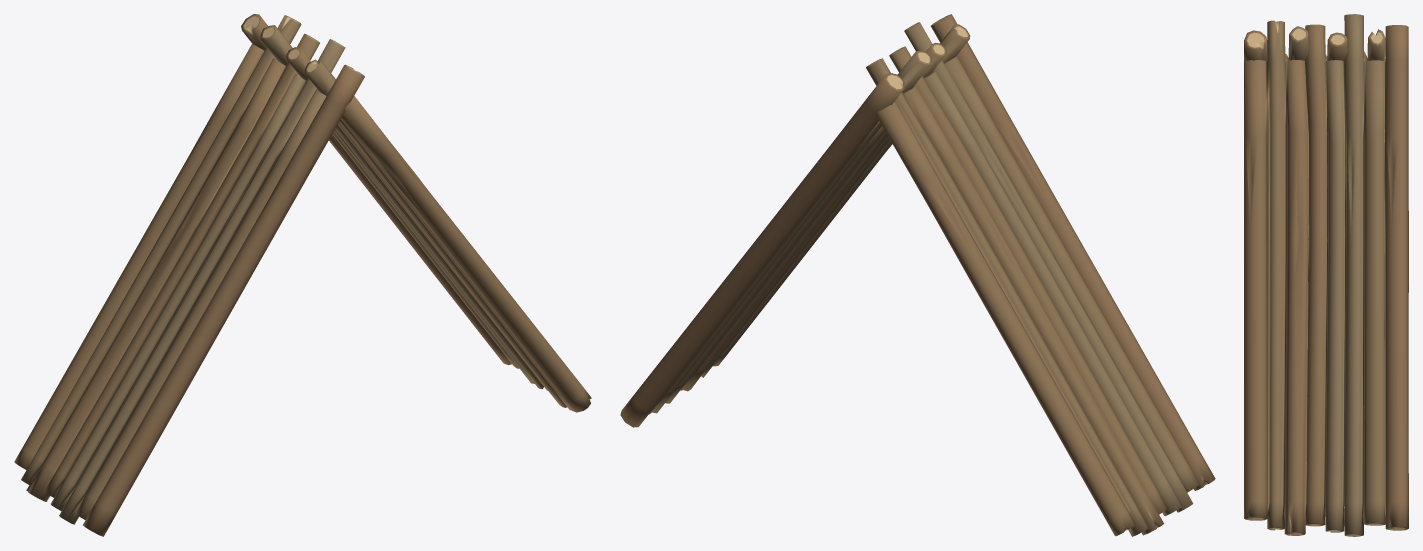
File: rpgpp_ag_roof_01b_6x5x3.fbx
3 views of the same model, side by side, from view 1: azimuth 30°, elevation 25°; view 2: azimuth 150°, elevation 25°; view 3: azimuth 270°, elevation 25° (orthographic). The views are drawn at different scales.
Visible parts, largest first — view 1: rpgpp_ag_roof_01b_6x5x3; view 2: rpgpp_ag_roof_01b_6x5x3; view 3: rpgpp_ag_roof_01b_6x5x3.
Part boxes in pixels (left/top/right/bottom): rpgpp_ag_roof_01b_6x5x3: left=14, top=14, right=591, bottom=536; rpgpp_ag_roof_01b_6x5x3: left=620, top=14, right=1215, bottom=536; rpgpp_ag_roof_01b_6x5x3: left=1244, top=14, right=1408, bottom=536.
Bounding box in the file's own units: 10.4 × 8.11 × 3.
